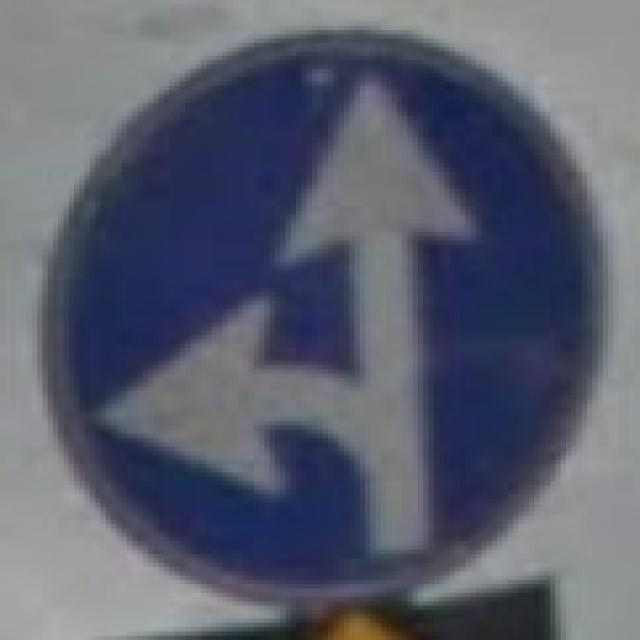Straight or Left: (38, 37, 599, 596)
